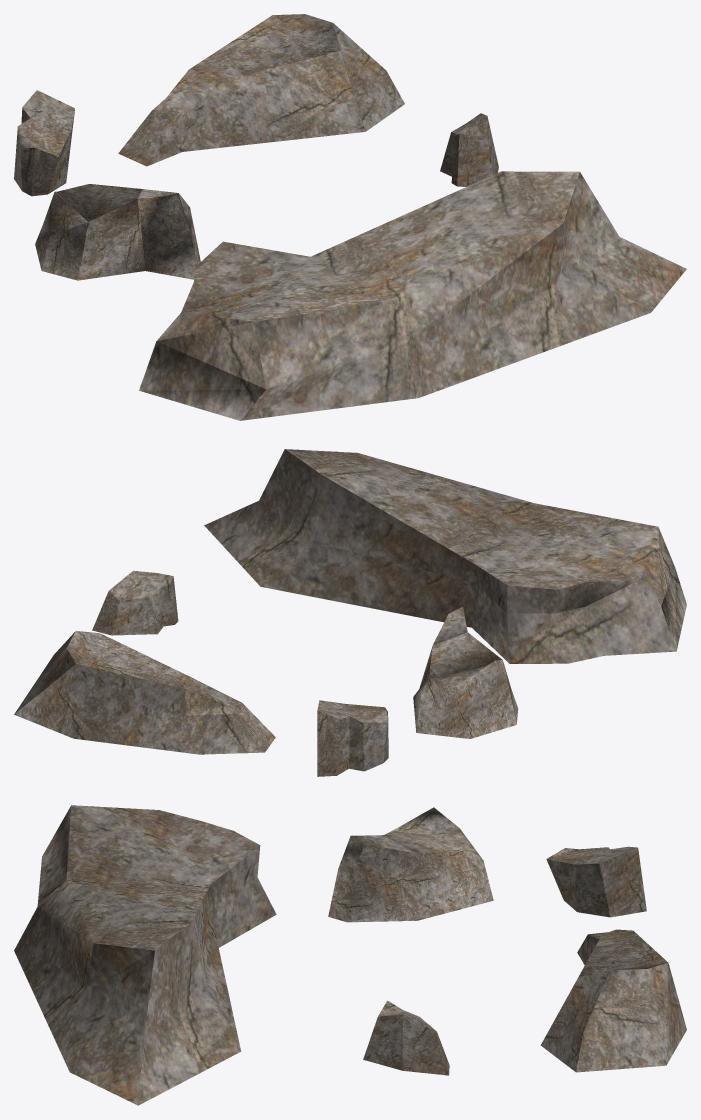
Rendered from RckM06.glb.
3 views of the same model, one above another, from view 1: azimuth 30°, elevation 25°; view 2: azimuth 150°, elevation 25°; view 3: azimuth 270°, elevation 25° (orthographic). The views are drawn at different scales.
Parts seen in each view (by area): view 1: _RckM06; view 2: _RckM06; view 3: _RckM06.
Part boxes in pixels (x1,y1,x2,y2): _RckM06: [14, 14, 686, 420]; _RckM06: [14, 449, 686, 776]; _RckM06: [14, 805, 686, 1105].
Size of the model in its own units: 16.22 by 3.34 by 18.51.
1 material, 1 textured.
